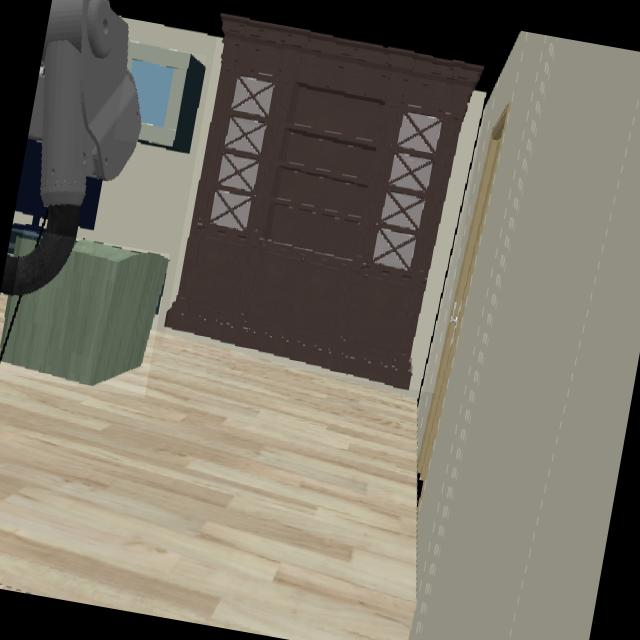bookshelf: (166, 13, 490, 388)
cabinet: (127, 42, 203, 152)
sofa: (2, 239, 167, 387)
